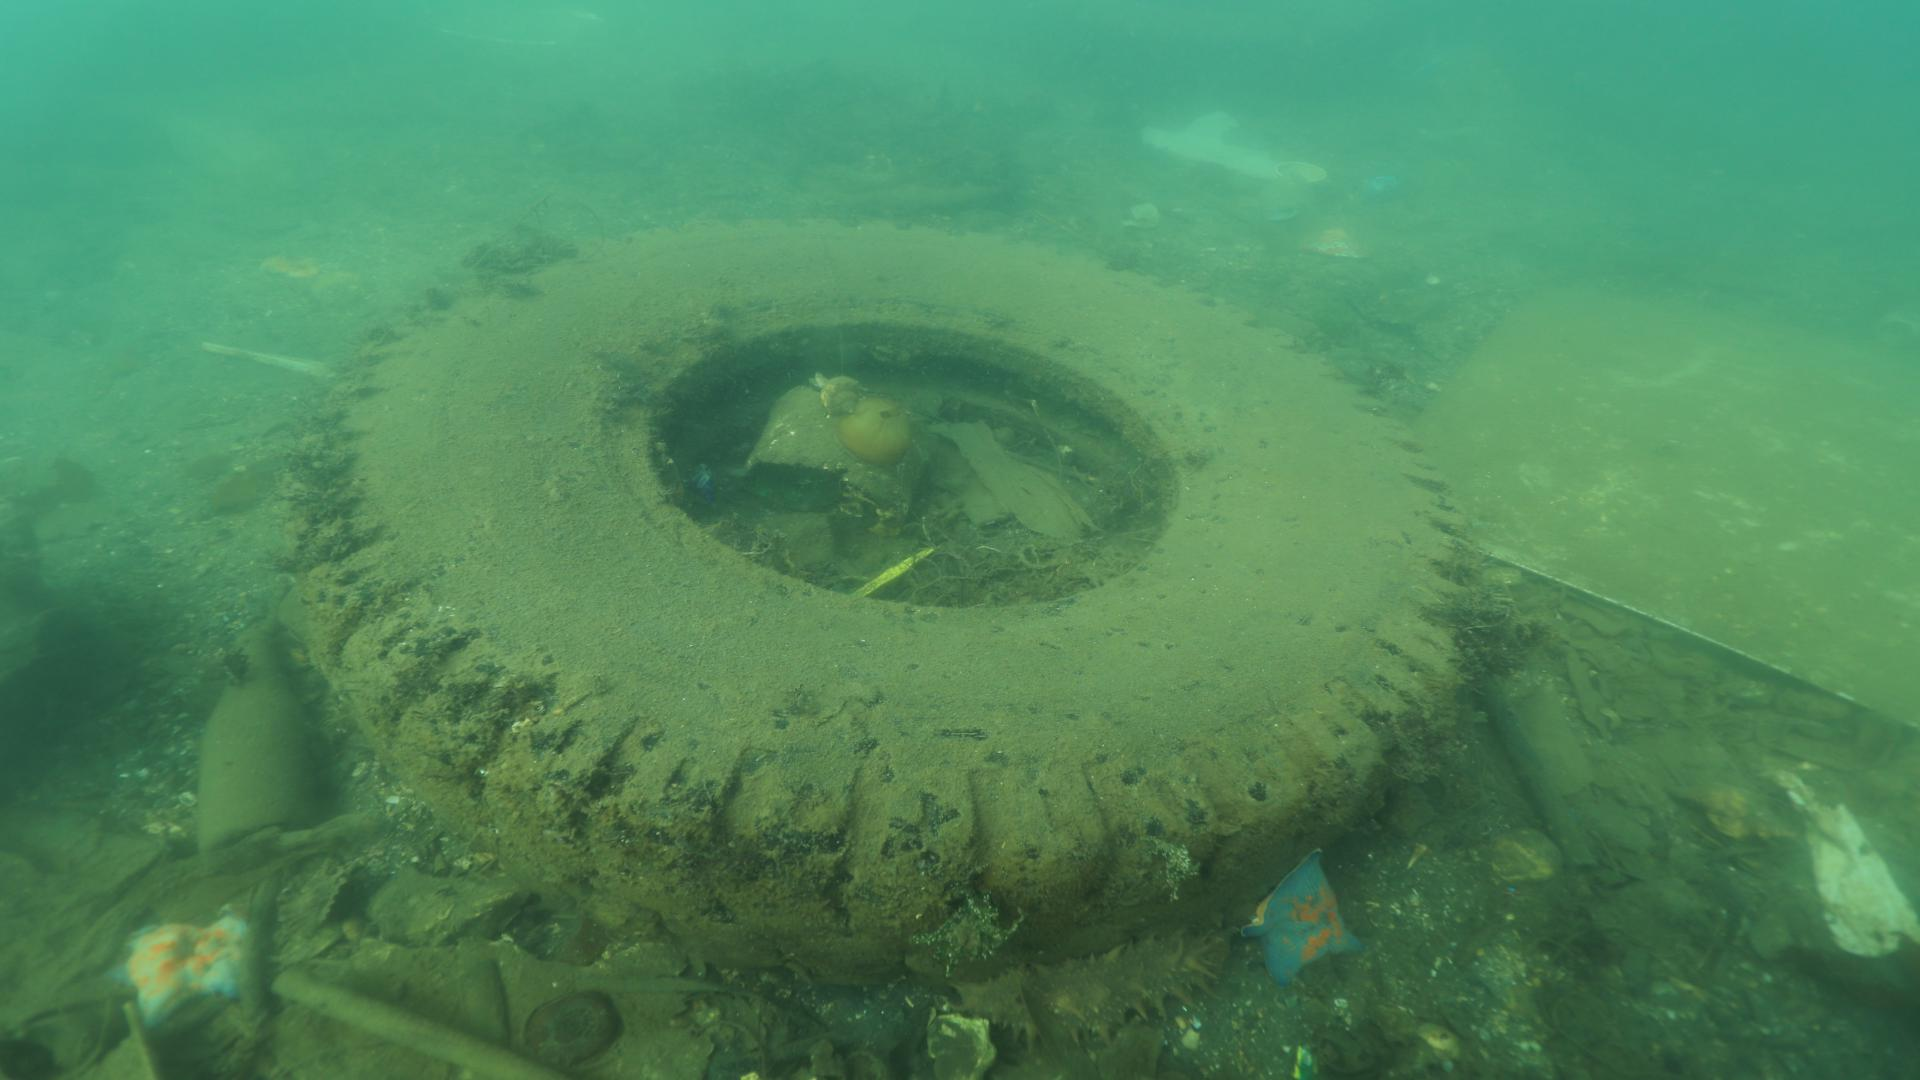tire: (291, 215, 1469, 977)
